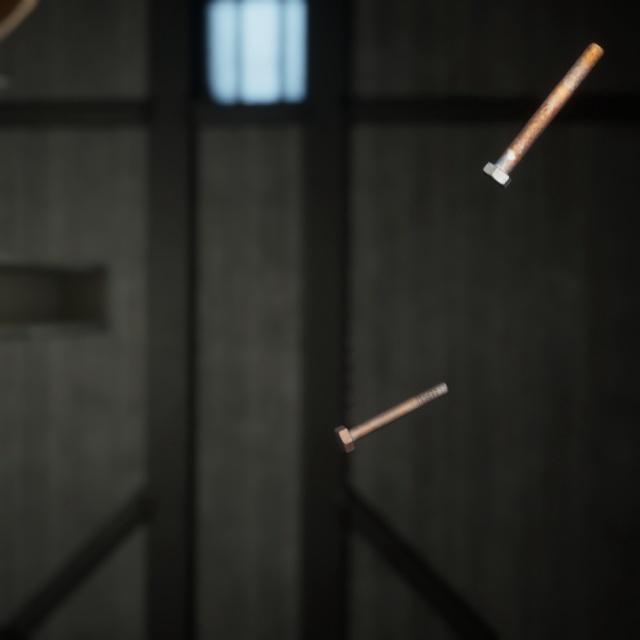bolt: (478, 26, 608, 180), (329, 358, 453, 438)
